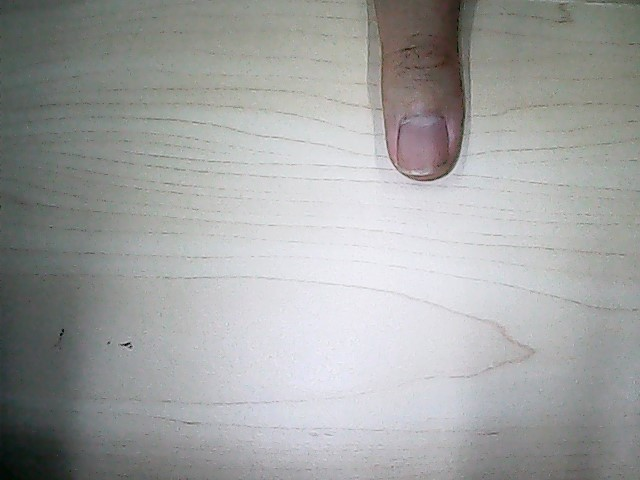nail: (396, 122, 451, 175)
